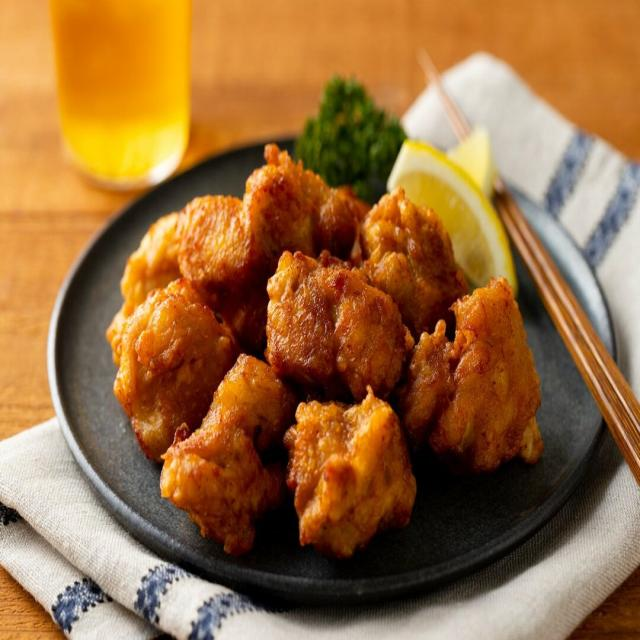Frango: (104, 140, 545, 563)
